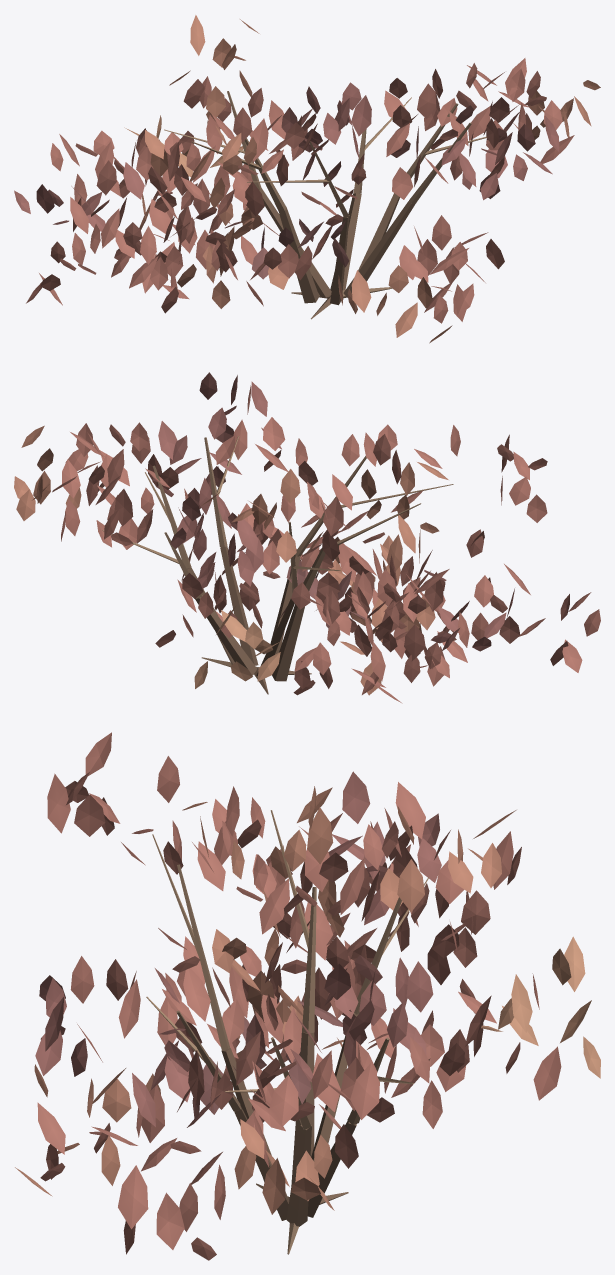
Rendered from bush_3d_02_red.glb.
3 renders of one model, top to bottom at view 1: azimuth 30°, elevation 25°; view 2: azimuth 150°, elevation 25°; view 3: azimuth 270°, elevation 25°, orthographic. The views are drawn at different scales.
Parts seen in each view (by area): view 1: bush_3d_02_red_foliage, bush_3d_02_red_wood; view 2: bush_3d_02_red_foliage, bush_3d_02_red_wood; view 3: bush_3d_02_red_foliage, bush_3d_02_red_wood.
Part boxes in pixels (<box>): bush_3d_02_red_foliage: <box>14,15,600,343</box>; bush_3d_02_red_wood: <box>164,91,486,319</box>; bush_3d_02_red_foliage: <box>14,372,600,703</box>; bush_3d_02_red_wood: <box>102,436,453,694</box>; bush_3d_02_red_foliage: <box>15,732,600,1260</box>; bush_3d_02_red_wood: <box>146,810,428,1254</box>.
Bounding box in the file's own units: 3.4 × 1.45 × 2.1.
